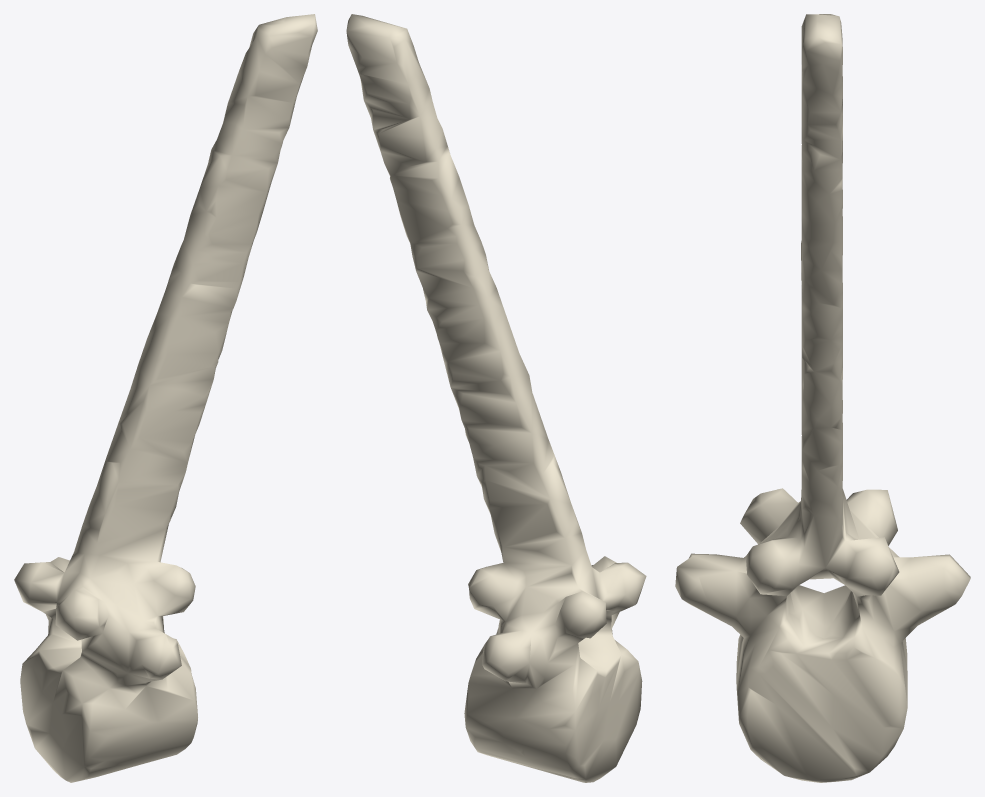
The model's file is thoracic_7.glb.
The picture shows the model from 3 angles, left to right: view 1: azimuth 30°, elevation 25°; view 2: azimuth 150°, elevation 25°; view 3: azimuth 270°, elevation 25°; orthographic projection. The views are drawn at different scales.
Visible parts, largest first — view 1: geometry_0; view 2: geometry_0; view 3: geometry_0.
Boxes of the visible parts, x1=… form: geometry_0: x1=14, y1=14, x2=317, y2=782; geometry_0: x1=346, y1=14, x2=646, y2=782; geometry_0: x1=675, y1=14, x2=970, y2=782.
Bounding box in the file's own units: 0.2583 × 0.6307 × 0.201.
